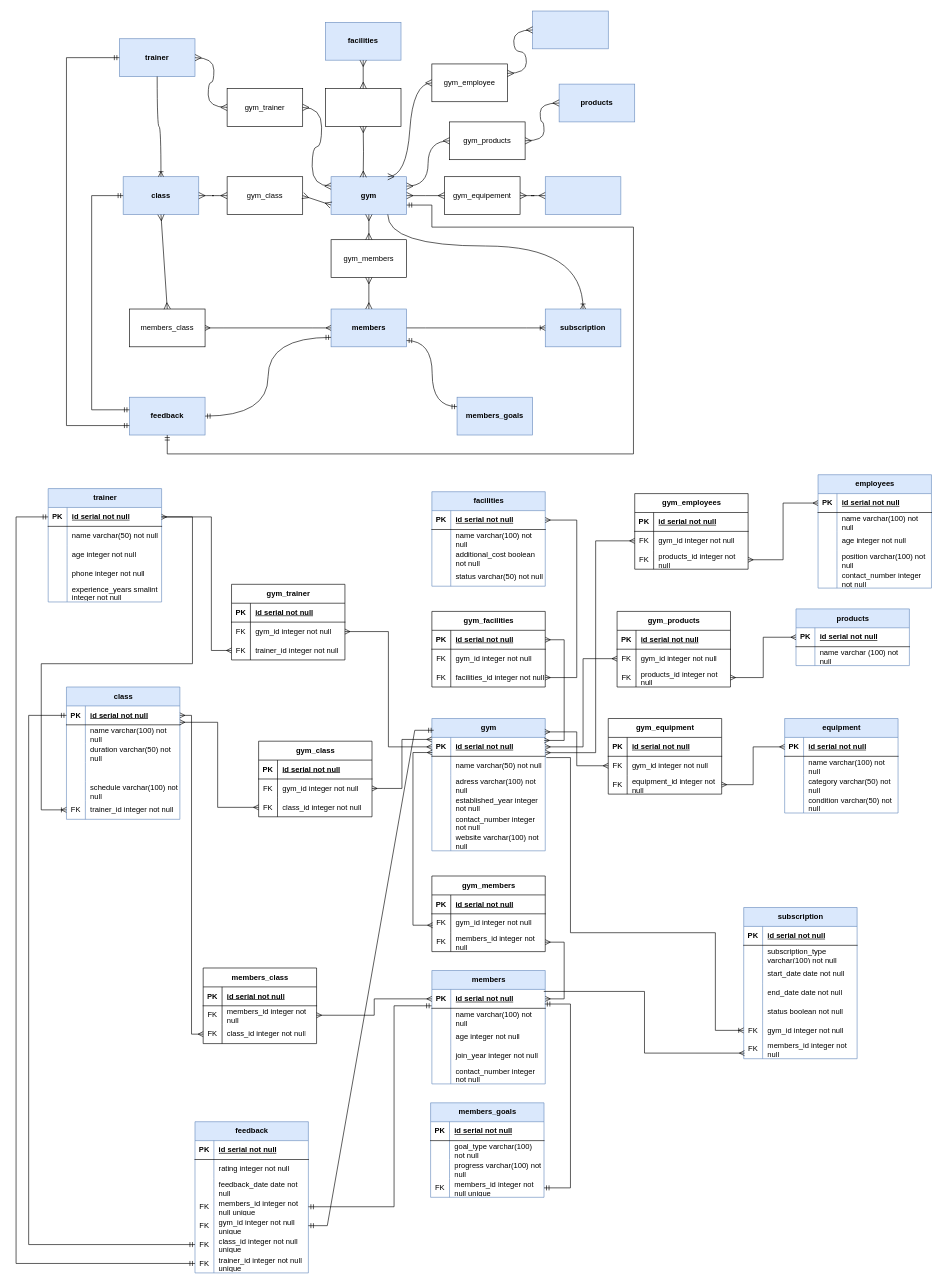
Some shapes in this 942 by 1284 pixel diagram are drawn without their labels. Each missing label, with the centre of its shape:
employee: [570,29]
equipement: [583,195]
gym_facilites: [363,107]
